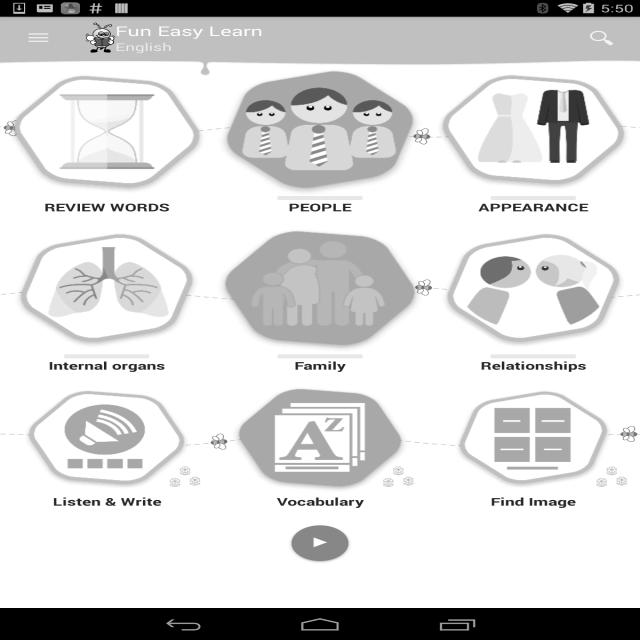ImageButton: (288, 524, 352, 564), (9, 17, 68, 59)
ImageView: (0, 17, 640, 608), (0, 69, 640, 196), (0, 227, 640, 354), (0, 386, 640, 490), (0, 68, 213, 200), (426, 68, 640, 196), (426, 226, 640, 354), (0, 226, 213, 354), (213, 69, 427, 196), (213, 227, 427, 354), (426, 385, 640, 494), (0, 385, 213, 494), (213, 386, 427, 494), (165, 524, 475, 564), (0, 59, 640, 77), (86, 23, 116, 53), (168, 466, 202, 488), (382, 466, 416, 488), (596, 466, 630, 488)
ProgressBar: (277, 196, 363, 200), (277, 354, 363, 358), (491, 196, 576, 200), (64, 354, 149, 358), (491, 354, 576, 358)
TextView: (213, 358, 427, 386), (213, 494, 427, 522), (213, 200, 427, 227), (426, 200, 640, 227), (426, 358, 640, 385), (426, 494, 640, 521), (0, 200, 213, 227), (0, 358, 213, 385), (0, 494, 213, 521), (115, 22, 263, 40), (572, 22, 631, 54), (115, 40, 172, 54)
